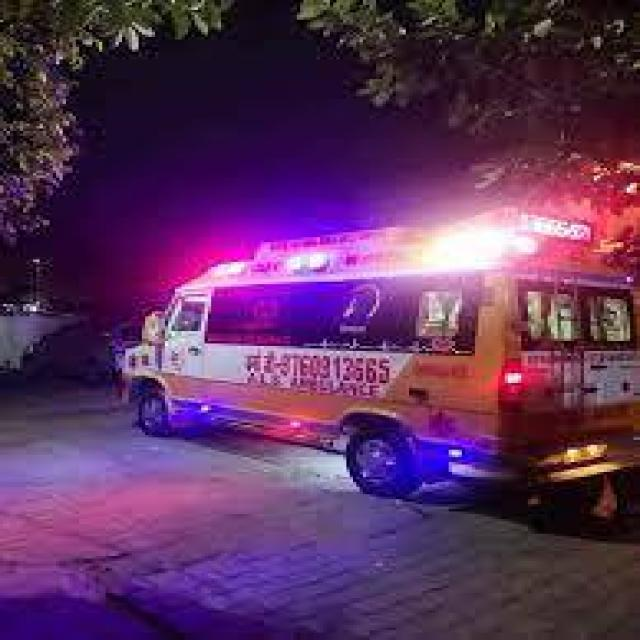ambulance: (124, 203, 640, 538)
